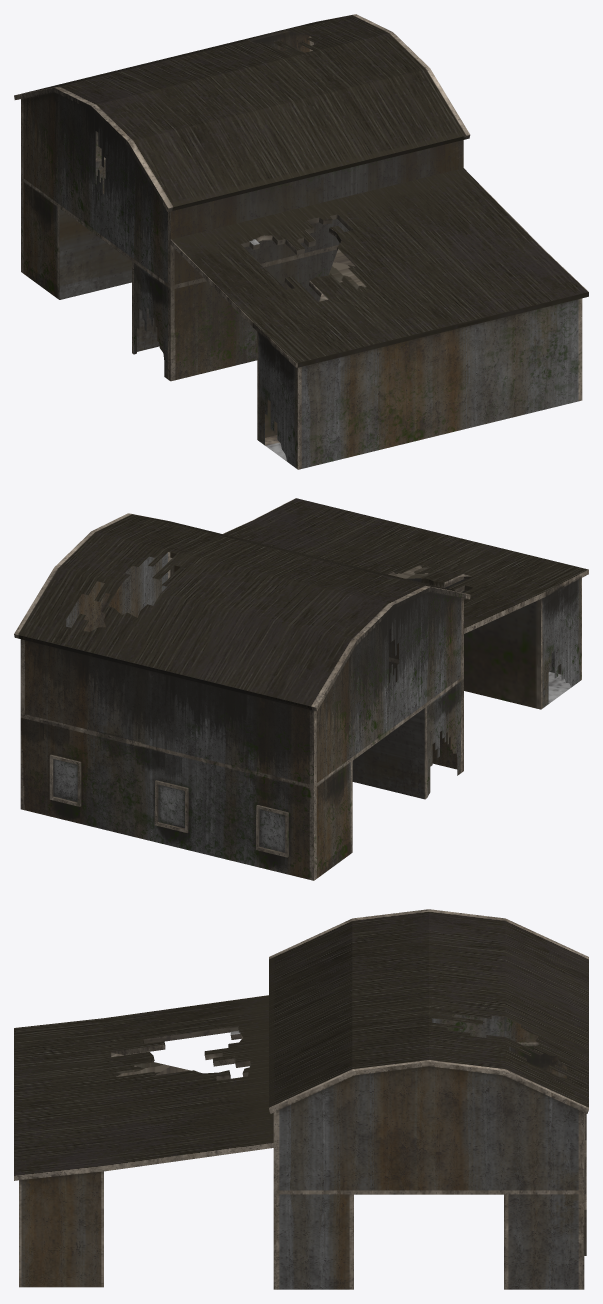
The model's file is Farm.fbx.
3 views of the same model, one above another, from view 1: azimuth 30°, elevation 25°; view 2: azimuth 150°, elevation 25°; view 3: azimuth 270°, elevation 25° (orthographic). The views are drawn at different scales.
Visible parts, largest first — view 1: Cube.001; view 2: Cube.001; view 3: Cube.001.
Boxes of the visible parts, bbox=[...] form: Cube.001: bbox=[14, 14, 588, 469]; Cube.001: bbox=[14, 498, 588, 880]; Cube.001: bbox=[14, 909, 588, 1289].
Size of the model in its own units: 709 by 497 by 1127.
